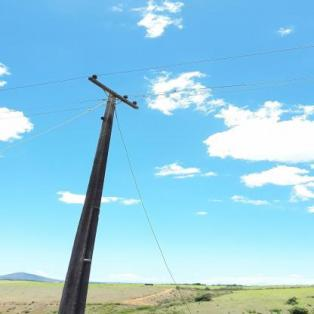Poste: (55, 88, 123, 314)
